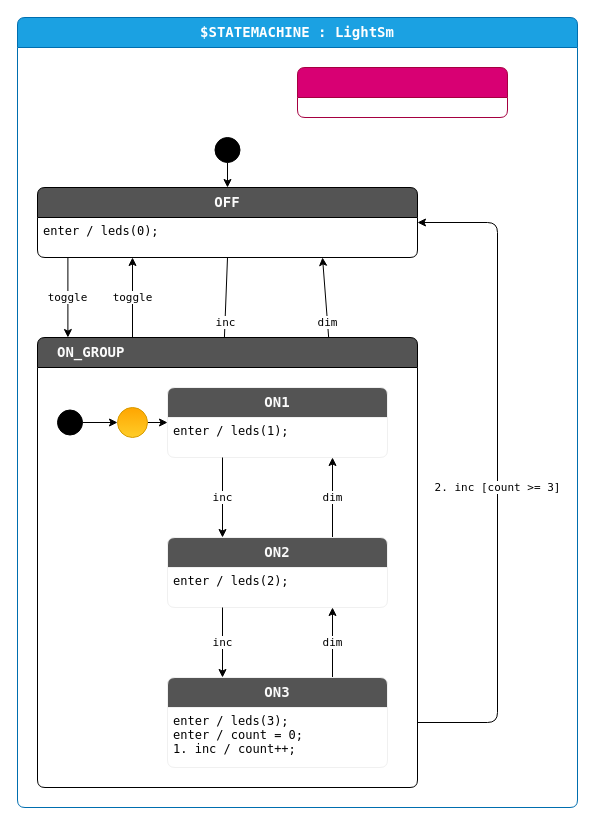
Some shapes in this 595 by 825 pixel diagram are drawn without their labels. The shapes that lost their labels are listed below. From the top down, each one's centre as x and y in pixels, then its label:
At pixel 402 92: "$CONFIG: toml".
At pixel 132 422: "$ H".
